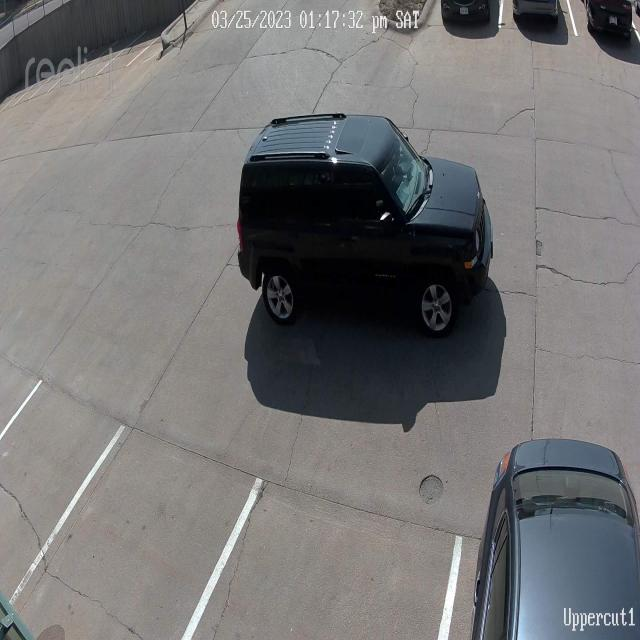Car: (236, 114, 495, 337)
Empty-slot: (6, 427, 265, 633), (188, 473, 461, 640), (0, 377, 125, 607), (1, 313, 54, 430)
Slot-Occupied: (475, 442, 640, 640), (584, 0, 638, 60), (439, 0, 501, 42), (515, 0, 569, 46)
